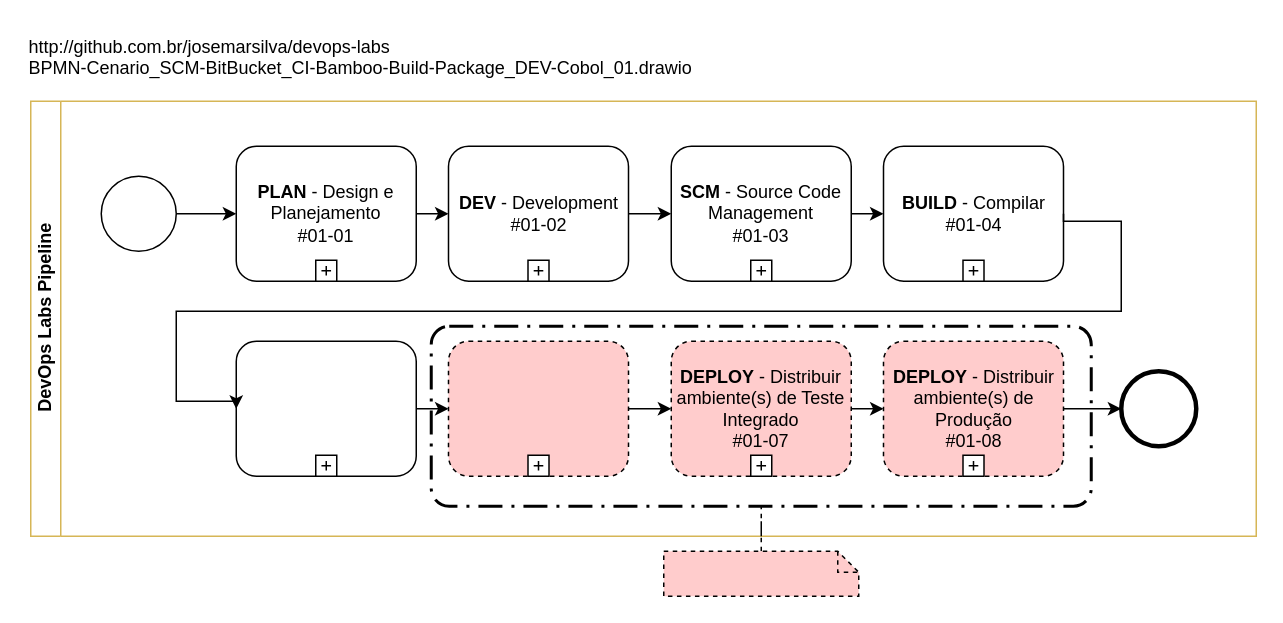
Some shapes in this 1283 by 623 pixel diagram are drawn without their labels. Each missing label, with the centre of its shape:
"DEPLOY - Distribuir ambiente(s) de Teste Unitário #01-06" goes at (x=537, y=408).
"Fora deste escopo !" goes at (x=760, y=573).
"PACKAGE - Empacotar p/ deploy #01-05" goes at (x=325, y=408).
